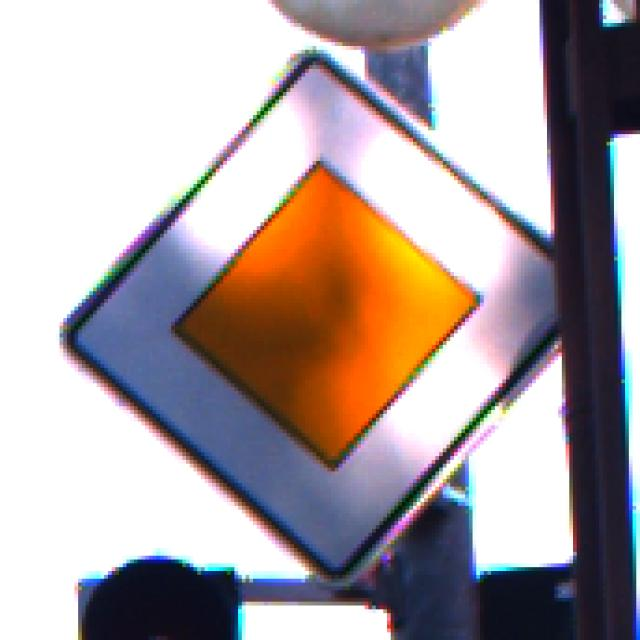Main Road: (57, 55, 589, 587)
